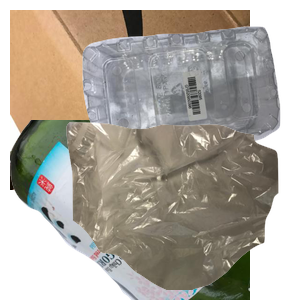cardboard: (10, 10, 250, 190)
glass: (10, 120, 250, 300)
plastic: (80, 24, 300, 172)
trash: (64, 120, 300, 300)
